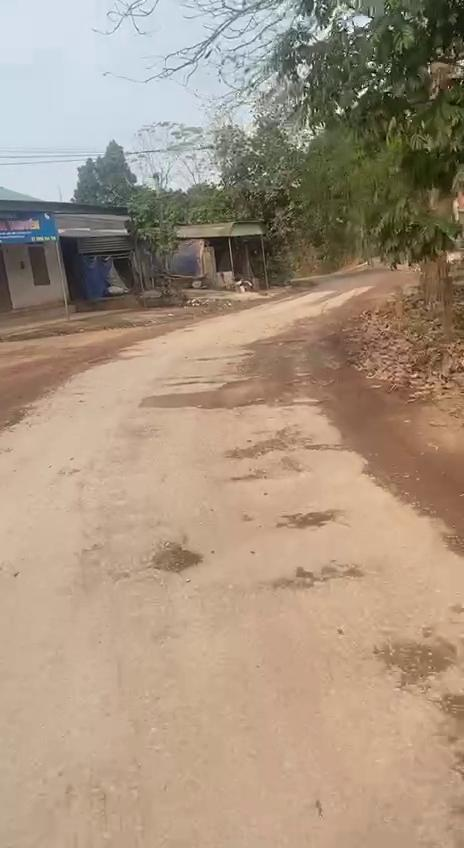pothole: (138, 377, 276, 416), (379, 636, 454, 693), (145, 544, 210, 577), (227, 435, 285, 459)
